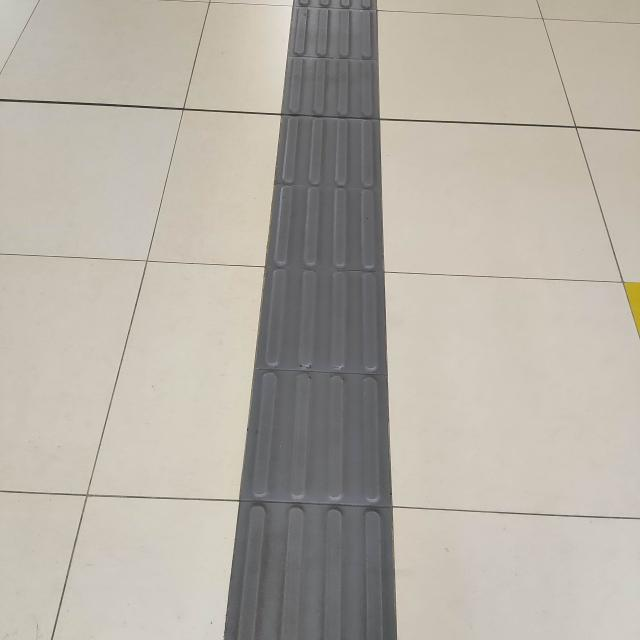lurus: (247, 0, 390, 640)
